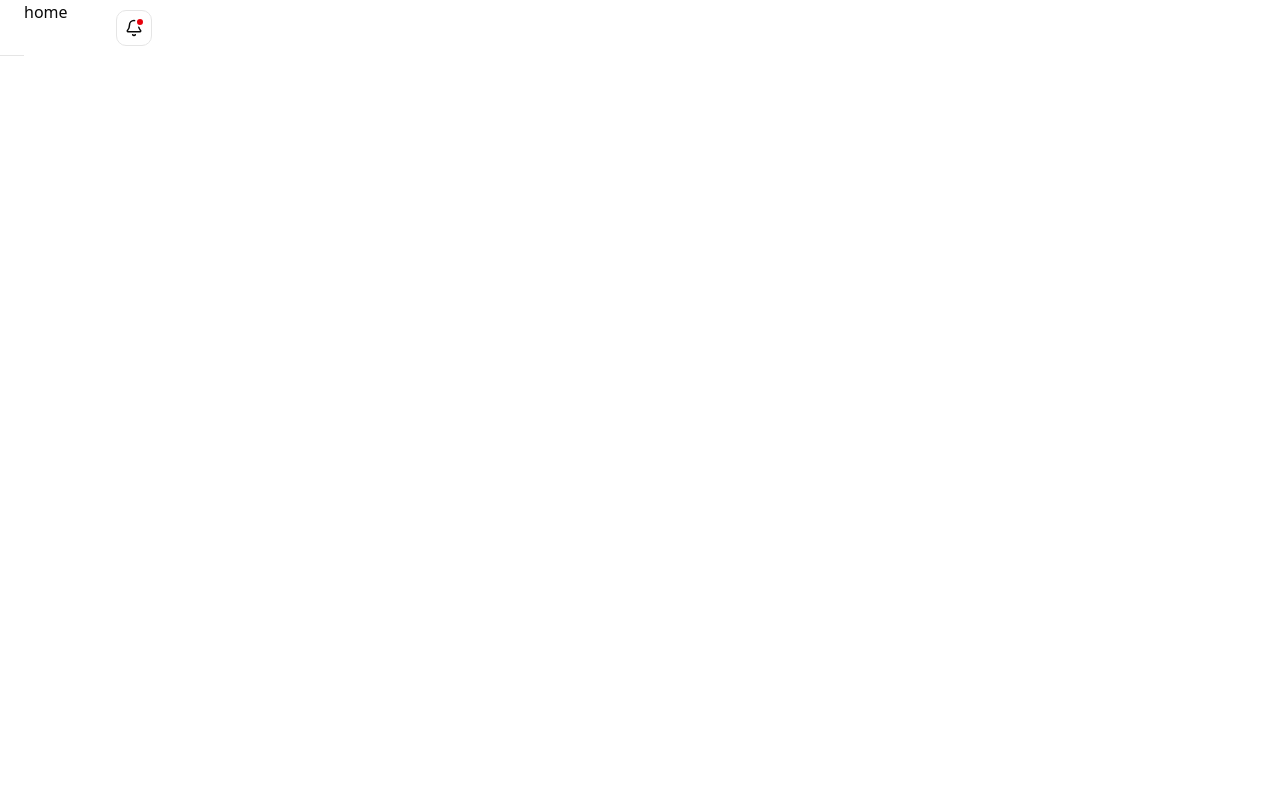
Test: the bell › "mark all as read" clears the dot and the unread marks
Press the mouse on the button named "通知，1 条未读" at [134, 28], box [116, 10, 152, 46]
Click the button named "通知，1 条未读" at [134, 28], box [116, 10, 152, 46]
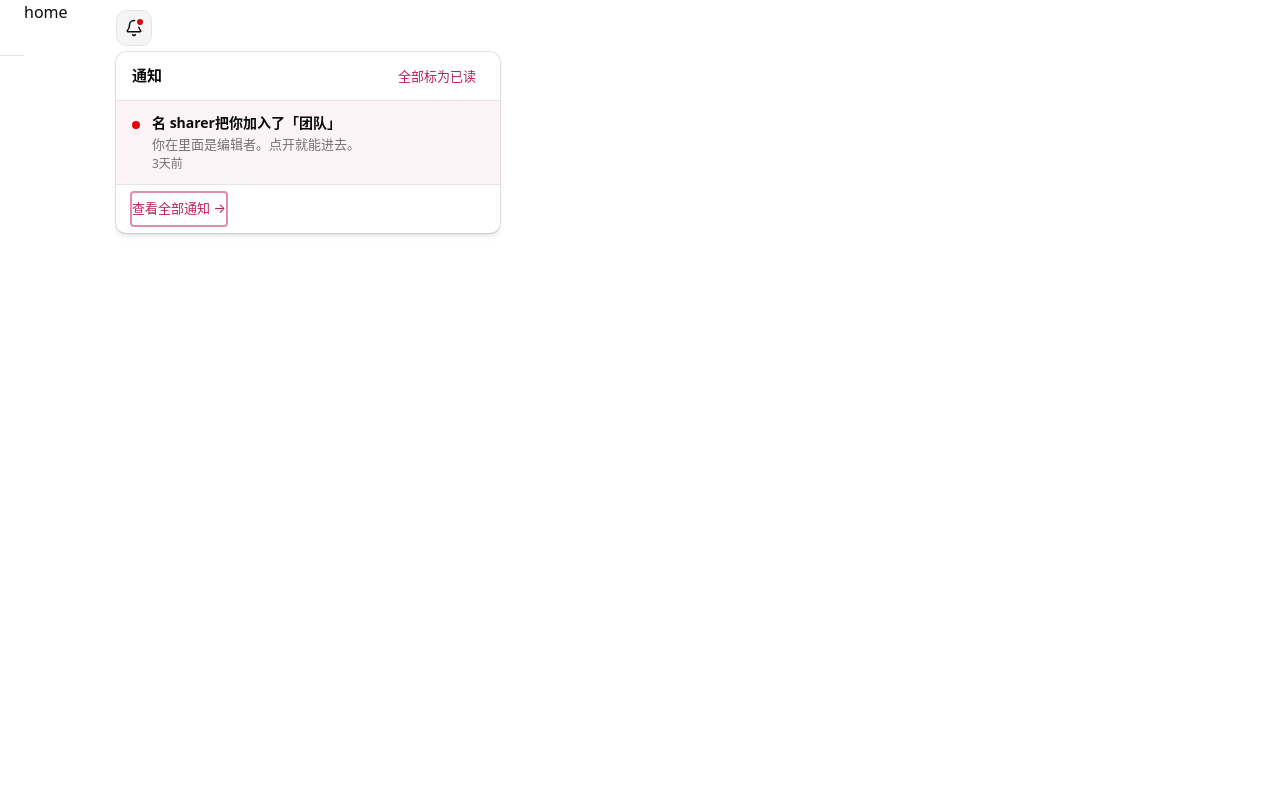
Press the mouse on the button "全部标为已读" at [437, 76], box [390, 60, 484, 92]
Click the button "全部标为已读" at [437, 76], box [390, 60, 484, 92]
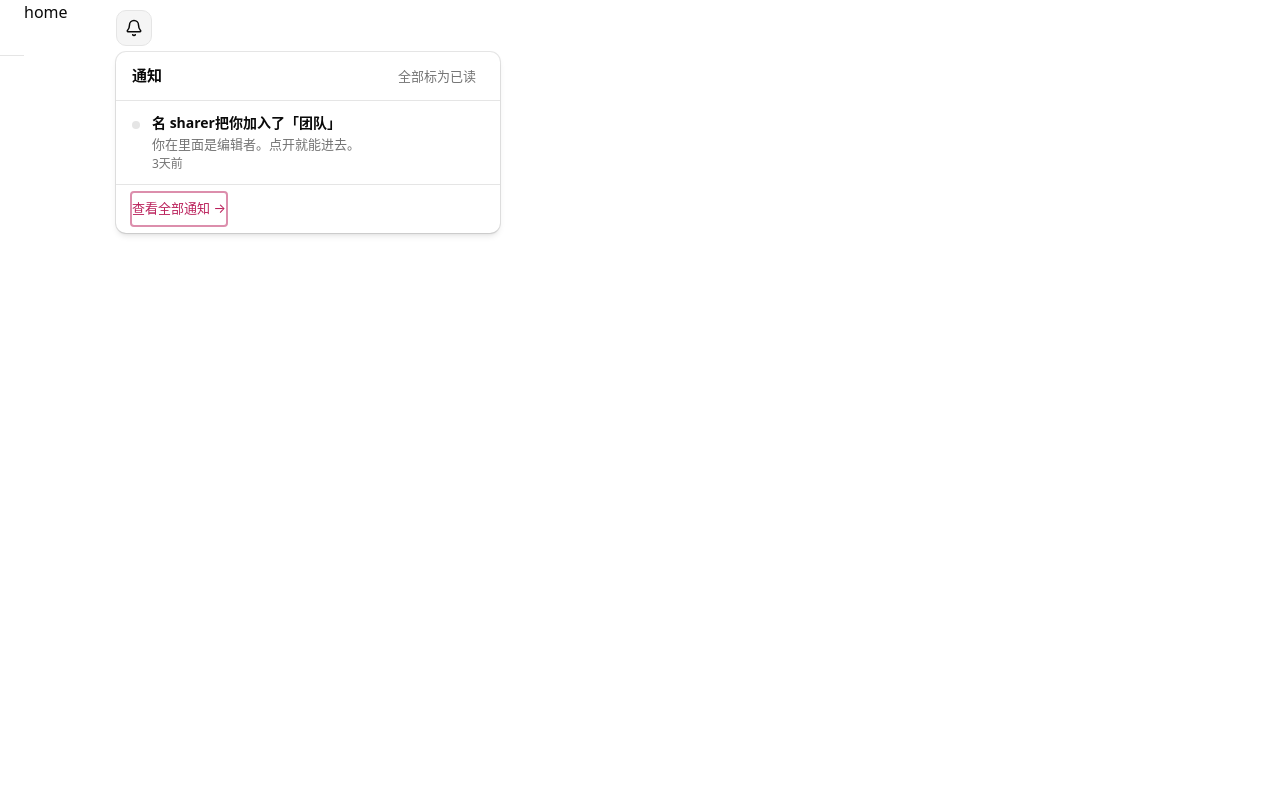
Check: the button named "通知" has attribute aria-label="通知", box [116, 10, 152, 46]
